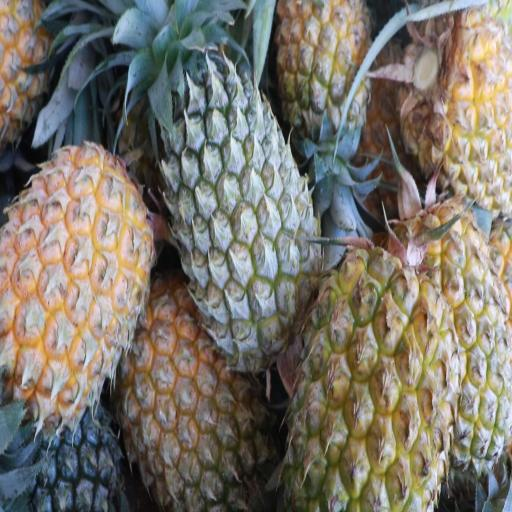------------------------------: (274, 2, 372, 188)
Pineapple - v8 v1: (284, 251, 452, 512), (0, 144, 149, 406), (114, 290, 274, 512), (389, 206, 510, 458), (396, 0, 512, 198)
